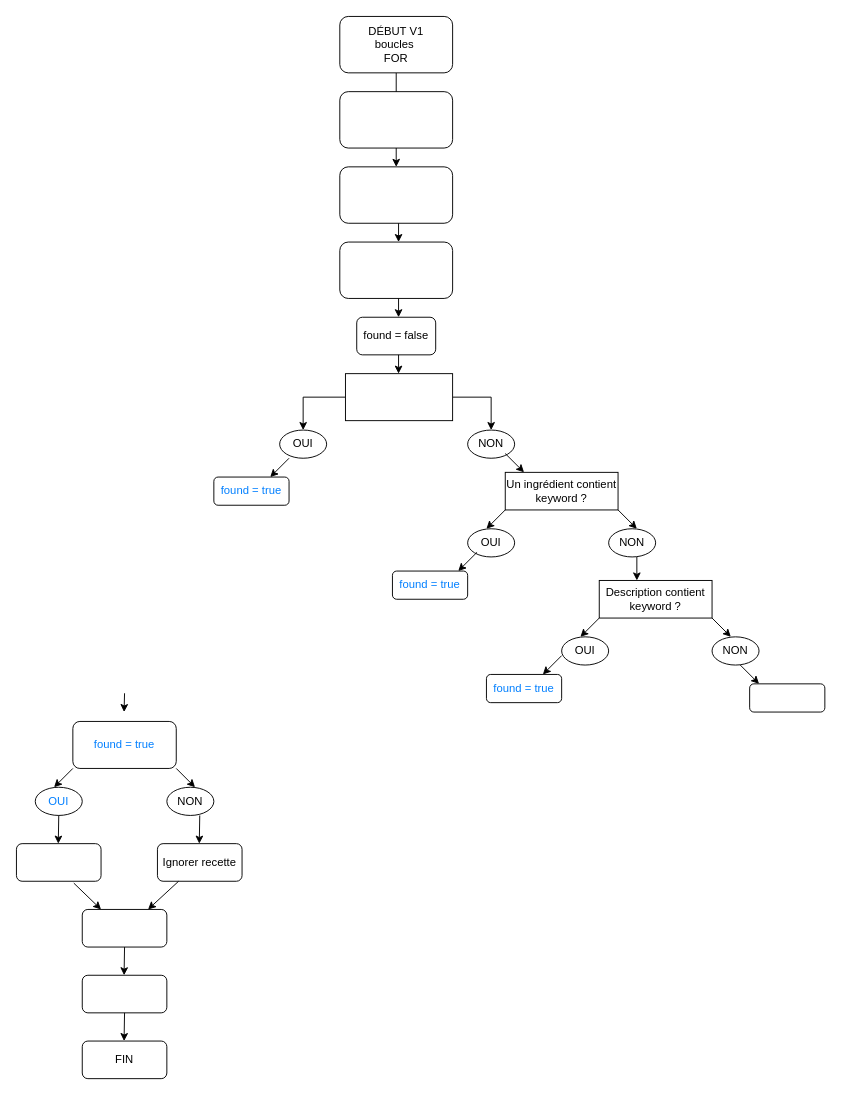
Some shapes in this 841 by 1095 pixel diagram are drawn without their labels. Here are the shapes that lost their labels. From the top down, the centre of each, then its label:
point 396,119: Lecture keyword (à partir de trois lettres)
point 396,194: Initialiser tableau "results"
point 396,269: Pour chaque recette de "recipes"
point 399,397: Nom contient keyword ?
point 787,697: found reste à false
point 58,862: Ajouter recette à results
point 124,928: Recette suivante
point 124,993: Retourner results
